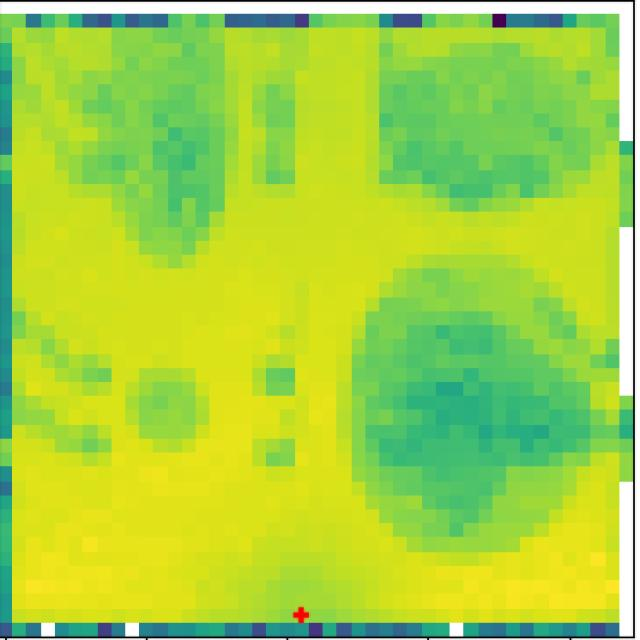Concrete: (383, 45, 590, 212)
Glass: (82, 40, 227, 269)
Metal: (365, 298, 574, 513)
Wood: (131, 366, 208, 455)
